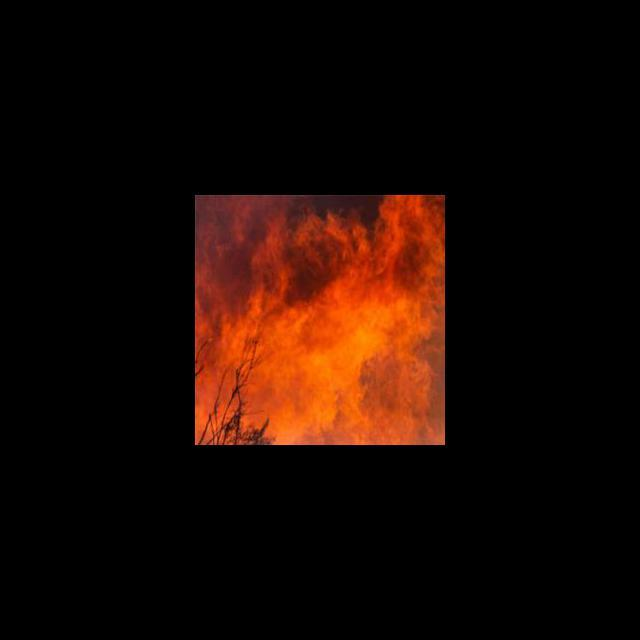Fire: (196, 195, 445, 444)
